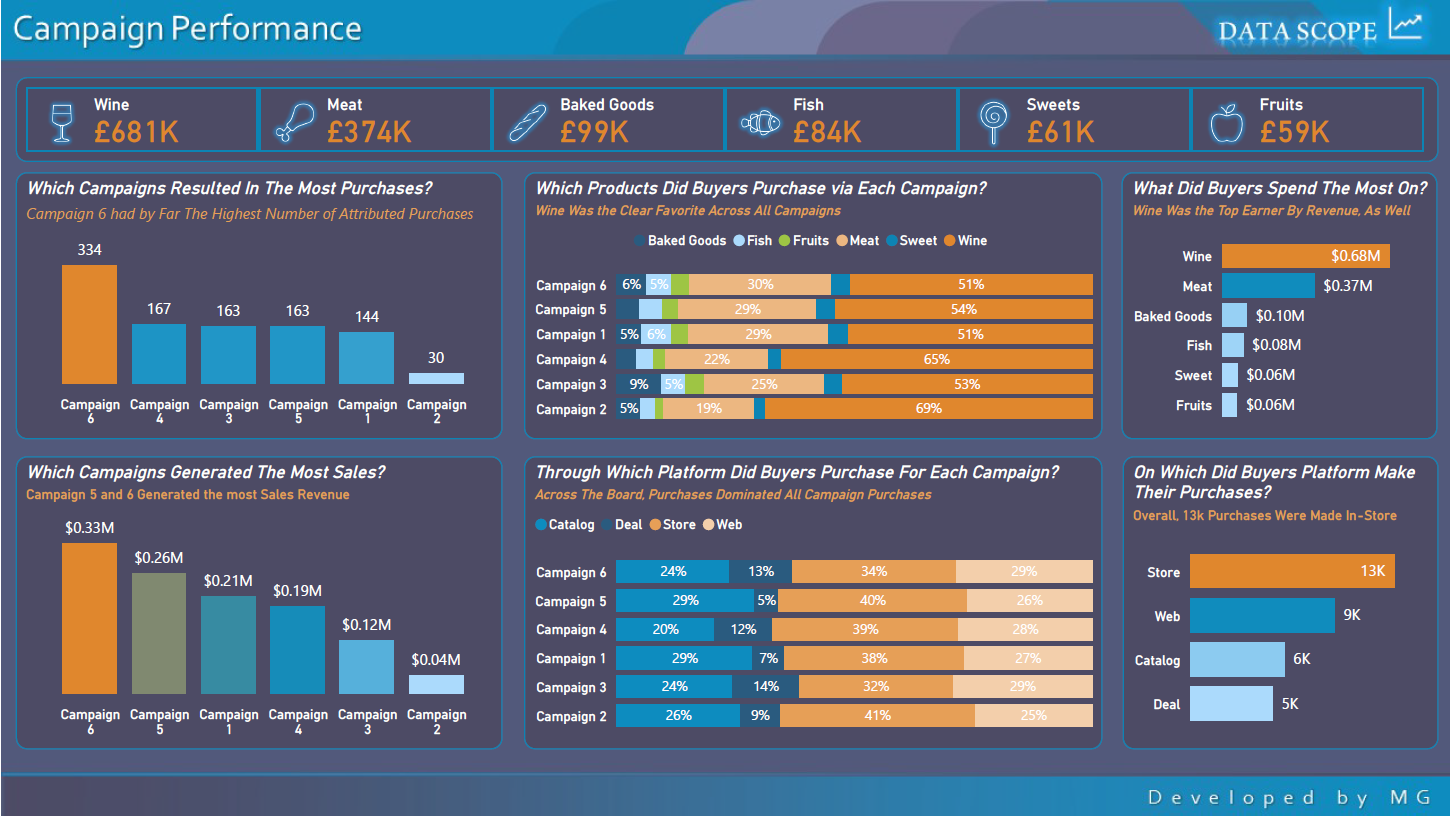

This screenshot's page, from the dashboard's own definition file:
{"tool":"powerbi","page":{"name":"Campaign Performance","canvas":[1280,720],"ordinal":1},"visuals":[{"type":"columnChart","title":"Which Campaigns Resulted In The Most Purchases?","fields":{"Category":["Campaign.Campaign"],"Y":["Sum(Campaign.Accepted_Ind)"]},"box":[13.3,152.2,430,235.6],"z":0},{"type":"columnChart","title":"Which Campaigns Generated The Most Sales?","fields":{"Y":["Sum(Products.Total Sales)"],"Category":["Campaign.Campaign"]},"box":[13.3,403.3,430,258.9],"z":1000},{"type":"hundredPercentStackedBarChart","title":"Which Products Did Buyers Purchase via Each Campaign?","fields":{"Y":["Sum(Products.Total Sales)"],"Category":["Campaign.Campaign"],"Series":["Products.Product"]},"box":[462.2,152.2,511.1,235.6],"z":2000},{"type":"barChart","title":"What Did Buyers Spend The Most On?","fields":{"Y":["Sum(Products.Total Sales)"],"Category":["Products.Product"]},"box":[990,152.2,278.9,235.6],"z":3000},{"type":"hundredPercentStackedBarChart","title":"Through Which Platform Did Buyers Purchase For Each Campaign?","fields":{"Category":["Campaign.Campaign"],"Y":["Sum(Platform.Qty)"],"Series":["Platform.Platform"]},"box":[462.2,403.3,511.1,258.9],"z":4000},{"type":"barChart","title":"On Which Did Buyers Platform Make Their Purchases?","fields":{"Y":["Sum(Platform.Qty)"],"Category":["Platform.Platform"]},"box":[990.8,403.4,279.1,258.8],"z":5000},{"type":"cardVisual","fields":{"Data":["Sum(marketmindz_research_data.Amount_Wine_Products)","Sum(marketmindz_research_data.Amount_Meat_Products)","Sum(marketmindz_research_data.Amount_Baked_products)","Sum(marketmindz_research_data.Amount_Fish_Products)","Sum(marketmindz_research_data.Amount_Sweet_Products)","Sum(marketmindz_research_data.Amount_Fruits_Products)"]},"box":[13.3,67.8,1256.7,75.6],"z":6000}]}

Visuals, with their boxes in screenshot pixels (x1, y1, x2, y2), scaled from the page's 1280x720 canvas onto the 1451x817 screenshot:
"Which Campaigns Resulted In The Most Purchases?" columnChart: <region>15, 173, 503, 440</region>
"Which Campaigns Generated The Most Sales?" columnChart: <region>15, 458, 503, 751</region>
"Which Products Did Buyers Purchase via Each Campaign?" hundredPercentStackedBarChart: <region>524, 173, 1103, 440</region>
"What Did Buyers Spend The Most On?" barChart: <region>1122, 173, 1438, 440</region>
"Through Which Platform Did Buyers Purchase For Each Campaign?" hundredPercentStackedBarChart: <region>524, 458, 1103, 751</region>
"On Which Did Buyers Platform Make Their Purchases?" barChart: <region>1123, 458, 1440, 751</region>
cardVisual - Sum(marketmindz_research_data.Amount_Wine_Products) x Sum(marketmindz_research_data.Amount_Meat_Products): <region>15, 77, 1440, 163</region>
